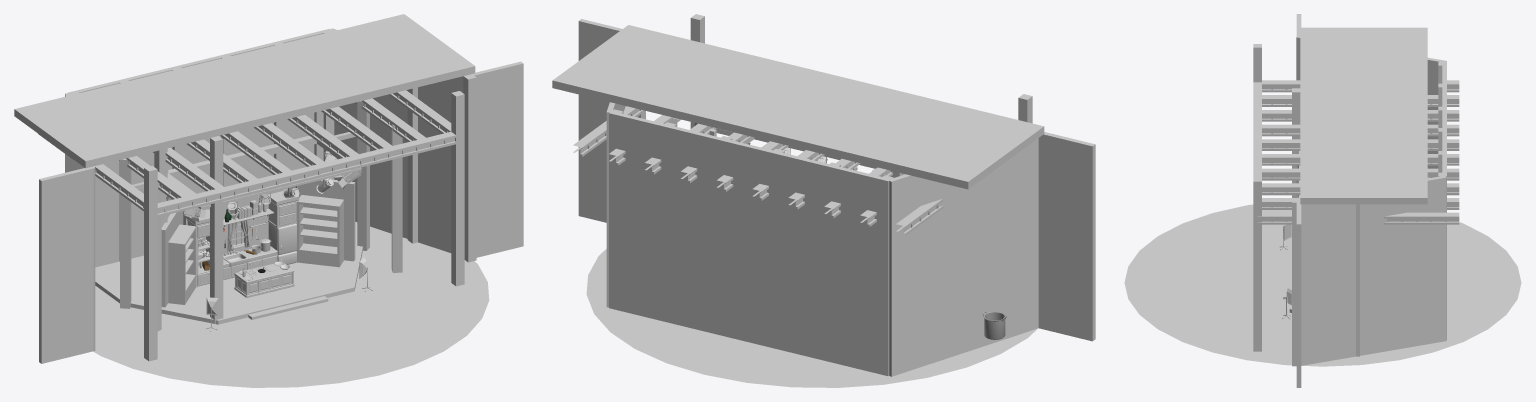
File: Kitchen_Test.glb
The picture shows the model from 3 angles, left to right: view 1: azimuth 30°, elevation 25°; view 2: azimuth 150°, elevation 25°; view 3: azimuth 270°, elevation 25°; orthographic projection. The views are drawn at different scales.
Visible parts, largest first — view 1: Kitchen_Base, Plane.007, Plane.010, TF1_Pillar.010, Plane.009, Plane.001, Plane.008, TF1_Pillar.008, TF1_Pillar.006, TF1_Pillar.009, Cube.008, TF1_Pillar.001 (+11 smaller); view 2: Plane.008, Plane.007, Plane.009, Plane.010, Kitchen_Base, TF1_Pillar.010, TF1_Pillar.002, TF1_Pillar.008, Soup Pot; view 3: Kitchen_Base, Plane.007, Plane.009, TF1_Pillar.010, TF1_Pillar.008, TF1_Pillar.006, Plane.010, TF1_Pillar.009, TF1_Pillar.007, Plane.008.
Boxes of the visible parts, x1,y1,x2,y2 form: Kitchen_Base: (93,222,489,387); Plane.007: (14,14,475,168); Plane.010: (39,61,523,363); TF1_Pillar.010: (38,90,451,211); Plane.009: (65,28,471,350); Plane.001: (95,237,362,324); Plane.008: (74,30,325,267); TF1_Pillar.008: (144,91,464,361); TF1_Pillar.006: (210,74,476,323); TF1_Pillar.009: (153,132,455,217); Cube.008: (297,195,343,267); TF1_Pillar.001: (120,101,369,308); Plane.008: (615,112,884,374); Plane.007: (552,25,1044,189); Plane.009: (606,102,1038,376); Plane.010: (578,19,1095,341); Kitchen_Base: (586,249,1037,387); TF1_Pillar.010: (573,106,943,235); TF1_Pillar.002: (609,109,893,376); TF1_Pillar.008: (690,14,1032,128); Soup Pot: (982,311,1006,339); Kitchen_Base: (1124,204,1521,366); Plane.007: (1300,27,1427,204); Plane.009: (1296,36,1446,365); TF1_Pillar.010: (1257,80,1459,224); TF1_Pillar.008: (1253,44,1261,351); TF1_Pillar.006: (1292,88,1300,366); Plane.010: (1296,14,1301,387); TF1_Pillar.009: (1253,82,1261,177); TF1_Pillar.007: (1356,204,1359,356); Plane.008: (1442,64,1446,173).
Bounding box in the file's own units: 31.12 × 11.72 × 24.82.
11 materials, 1 textured.
